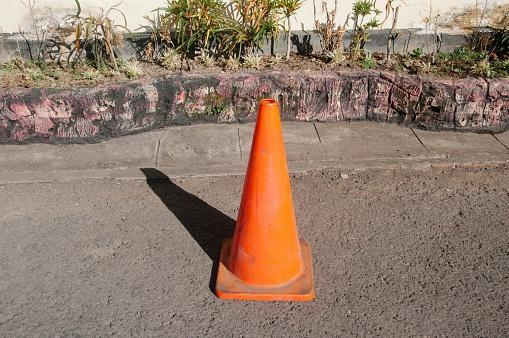Cone: (212, 98, 318, 305)
